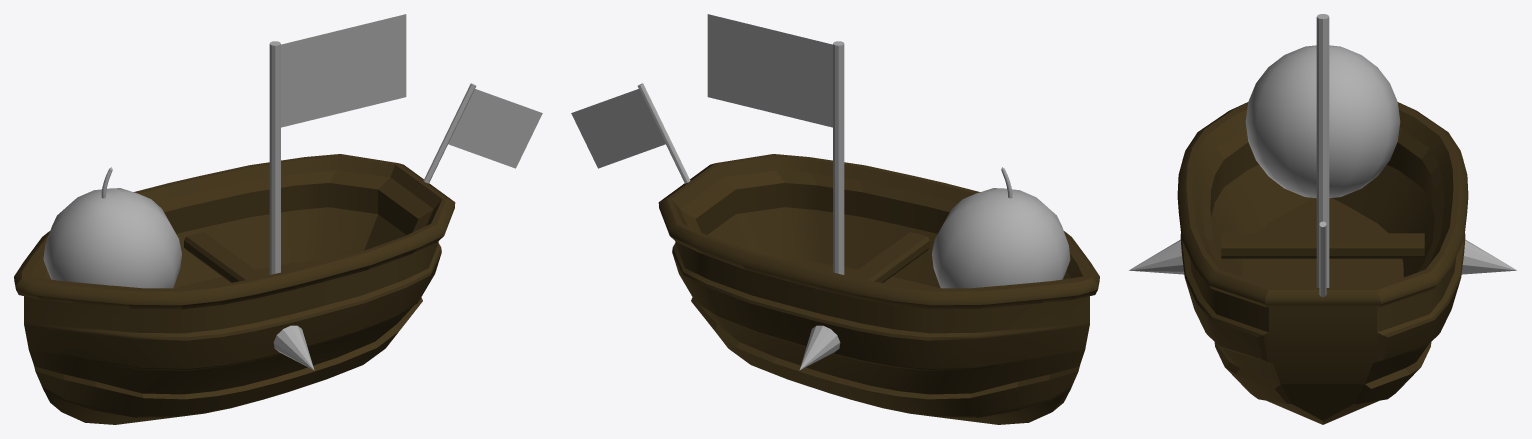
File: ZombieEnemy.fbx
The picture shows the model from 3 angles, left to right: view 1: azimuth 30°, elevation 25°; view 2: azimuth 150°, elevation 25°; view 3: azimuth 270°, elevation 25°; orthographic projection. The views are drawn at different scales.
Parts seen in each view (by area): view 1: pCube4, polySurface9, pPlane1, pPlane2, polySurface8, polySurface11; view 2: pCube4, polySurface9, pPlane1, pPlane2, polySurface8, polySurface11; view 3: pCube4, polySurface9, polySurface8, polySurface11.
Boxes of the visible parts, box(x1,y1,x2,y2) form: pCube4: box(14, 154, 455, 424); polySurface9: box(43, 188, 181, 288); pPlane1: box(281, 14, 406, 127); pPlane2: box(448, 89, 542, 168); polySurface8: box(269, 41, 476, 274); polySurface11: box(273, 325, 314, 370); pCube4: box(658, 154, 1099, 424); polySurface9: box(932, 188, 1070, 288); pPlane1: box(707, 14, 832, 127); pPlane2: box(571, 89, 665, 168); polySurface8: box(637, 41, 844, 274); polySurface11: box(799, 325, 840, 370); pCube4: box(1177, 102, 1468, 424); polySurface9: box(1245, 45, 1400, 198); polySurface8: box(1316, 14, 1329, 296); polySurface11: box(1129, 239, 1516, 274).
Size of the model in its own units: 3.9 by 2.45 by 2.24.
